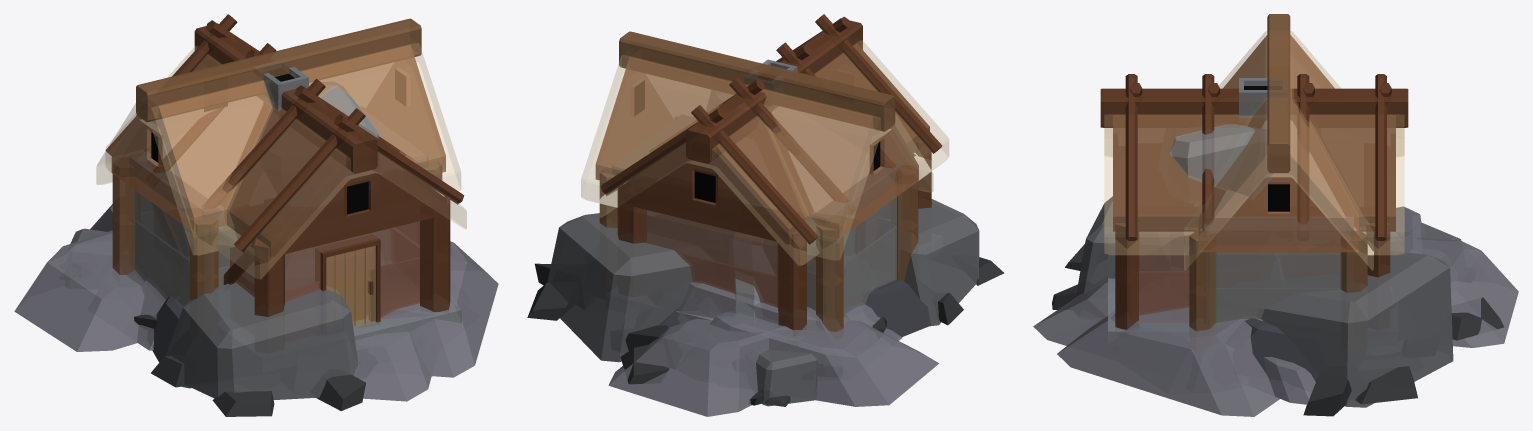
File: VilaNPCPedra.fbx
The picture shows the model from 3 angles, left to right: view 1: azimuth 30°, elevation 25°; view 2: azimuth 150°, elevation 25°; view 3: azimuth 270°, elevation 25°; orthographic projection. The views are drawn at different scales.
Visible parts, largest first — view 1: Pedra_05, CimaCasa2, CimaCasa1, BaixoCasa2, BaixoCasa1, Pedra_02; view 2: Pedra_05, CimaCasa1, CimaCasa2, BaixoCasa1, BaixoCasa2, Pedra_02; view 3: Pedra_05, CimaCasa2, CimaCasa1, BaixoCasa2, BaixoCasa1.
Boxes of the visible parts, x1=… form: Pedra_05: x1=14, y1=82, x2=498, y2=416; CimaCasa2: x1=105, y1=14, x2=466, y2=327; CimaCasa1: x1=96, y1=18, x2=460, y2=281; BaixoCasa2: x1=152, y1=203, x2=461, y2=349; BaixoCasa1: x1=112, y1=211, x2=390, y2=306; Pedra_02: x1=141, y1=277, x2=167, y2=318; Pedra_05: x1=527, y1=90, x2=1004, y2=416; CimaCasa1: x1=581, y1=31, x2=933, y2=285; CimaCasa2: x1=600, y1=14, x2=948, y2=289; BaixoCasa1: x1=699, y1=217, x2=918, y2=331; BaixoCasa2: x1=675, y1=153, x2=931, y2=343; Pedra_02: x1=844, y1=303, x2=880, y2=326; Pedra_05: x1=1033, y1=124, x2=1518, y2=416; CimaCasa2: x1=1100, y1=74, x2=1408, y2=283; CimaCasa1: x1=1184, y1=14, x2=1373, y2=296; BaixoCasa2: x1=1108, y1=271, x2=1335, y2=344; BaixoCasa1: x1=1189, y1=287, x2=1340, y2=351.
Size of the model in its own units: 597 by 381 by 648.
